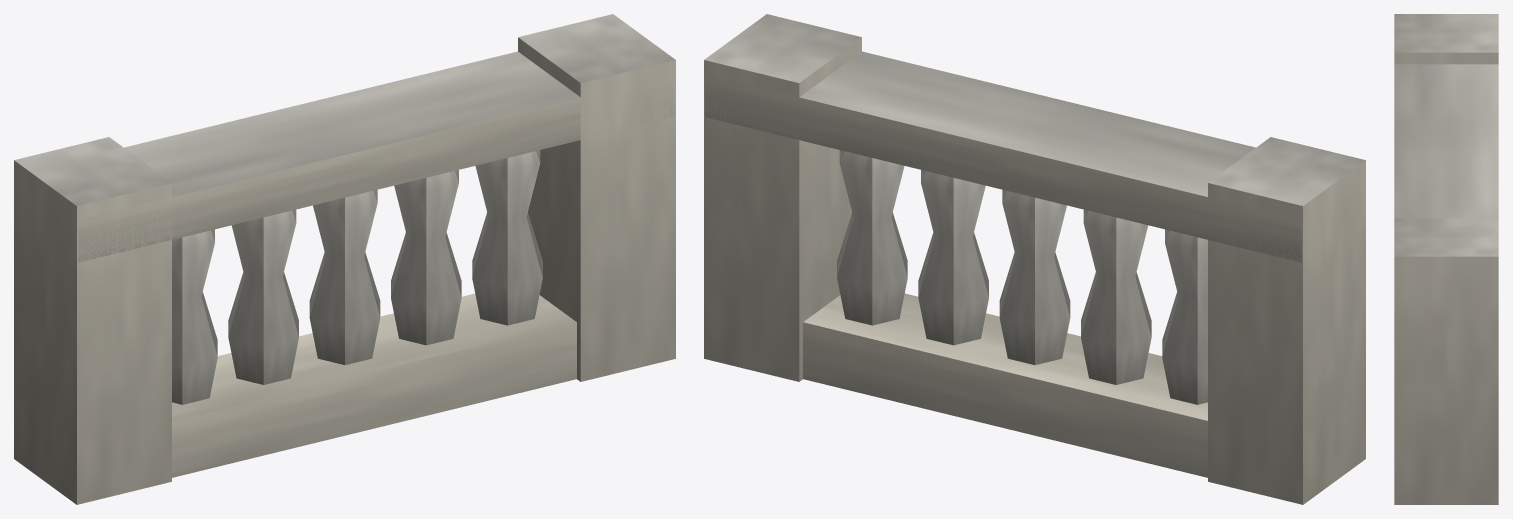
Rendered from railing_stone_01.glb.
The picture shows the model from 3 angles, left to right: view 1: azimuth 30°, elevation 25°; view 2: azimuth 150°, elevation 25°; view 3: azimuth 270°, elevation 25°; orthographic projection. The views are drawn at different scales.
Parts seen in each view (by area): view 1: railing_stone_01; view 2: railing_stone_01; view 3: railing_stone_01.
Part boxes in pixels (x1,y1,x2,y2): railing_stone_01: (14,14,675,504); railing_stone_01: (704,14,1365,504); railing_stone_01: (1394,14,1498,504).
Bounding box in the file's own units: 2.2 × 1.05 × 0.4.
Materials: 1 (1 with a texture image).
